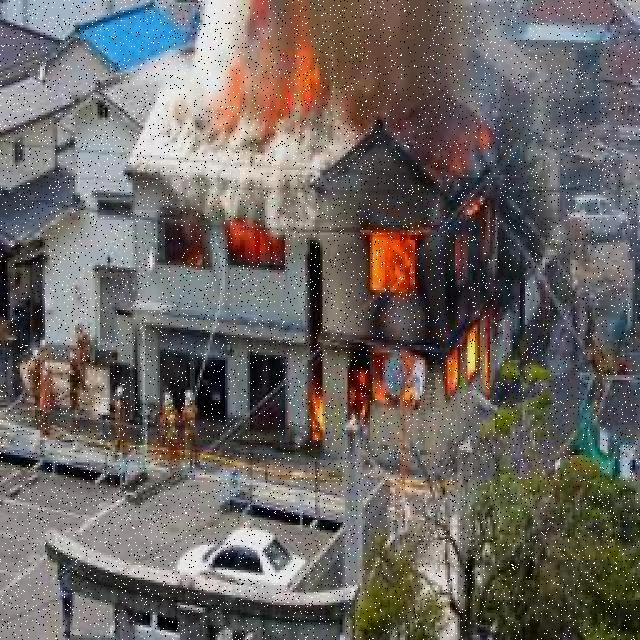Fire: (343, 109, 510, 425), (211, 11, 325, 122), (218, 219, 285, 266)
